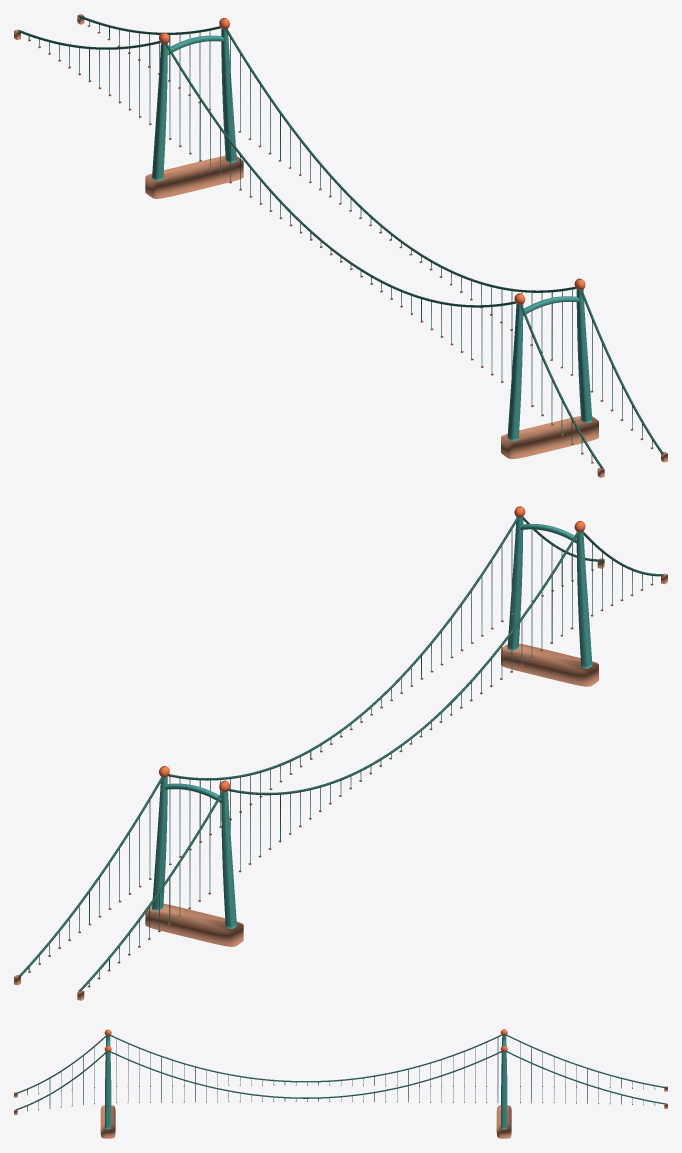
Rendered from sc01_bridge_shell_mb_fixture.glb.
3 views of the same model, one above another, from view 1: azimuth 30°, elevation 25°; view 2: azimuth 150°, elevation 25°; view 3: azimuth 270°, elevation 25° (orthographic). The views are drawn at different scales.
Visible parts, largest first — view 1: SC01_MB_hangers_L, SC01_MB_plinth_W, SC01_MB_plinth_E, SC01_MB_cable_L, SC01_MB_cable_R, SC01_MB_hangers_R, SC01_MB_pylon_W_L, SC01_MB_pylon_E_L, SC01_MB_pylon_E_R, SC01_MB_pylon_W_R; view 2: SC01_MB_plinth_W, SC01_MB_plinth_E, SC01_MB_hangers_R, SC01_MB_hangers_L, SC01_MB_cable_L, SC01_MB_cable_R, SC01_MB_pylon_W_L, SC01_MB_pylon_E_L, SC01_MB_pylon_W_R, SC01_MB_pylon_E_R; view 3: SC01_MB_cable_L, SC01_MB_cable_R, SC01_MB_hangers_R, SC01_MB_hangers_L, SC01_MB_pylon_W_R, SC01_MB_pylon_E_R, SC01_MB_plinth_E, SC01_MB_plinth_W.
Part boxes in pixels (bbox=[...]): SC01_MB_hangers_L: bbox=[28, 36, 592, 461]; SC01_MB_plinth_W: bbox=[145, 155, 243, 198]; SC01_MB_plinth_E: bbox=[501, 416, 598, 458]; SC01_MB_cable_L: bbox=[18, 30, 603, 468]; SC01_MB_cable_R: bbox=[78, 15, 663, 454]; SC01_MB_hangers_R: bbox=[89, 21, 652, 447]; SC01_MB_pylon_W_L: bbox=[152, 43, 167, 180]; SC01_MB_pylon_E_L: bbox=[507, 303, 523, 440]; SC01_MB_pylon_E_R: bbox=[576, 289, 592, 422]; SC01_MB_pylon_W_R: bbox=[221, 28, 236, 162]; SC01_MB_plinth_W: bbox=[145, 903, 243, 946]; SC01_MB_plinth_E: bbox=[501, 643, 598, 686]; SC01_MB_hangers_R: bbox=[28, 529, 591, 971]; SC01_MB_hangers_L: bbox=[89, 543, 652, 985]; SC01_MB_cable_L: bbox=[78, 531, 663, 991]; SC01_MB_cable_R: bbox=[18, 517, 603, 977]; SC01_MB_pylon_W_L: bbox=[221, 791, 236, 928]; SC01_MB_pylon_E_L: bbox=[576, 531, 592, 668]; SC01_MB_pylon_W_R: bbox=[152, 776, 167, 910]; SC01_MB_pylon_E_R: bbox=[507, 516, 523, 650]; SC01_MB_cable_L: bbox=[15, 1034, 666, 1093]; SC01_MB_cable_R: bbox=[15, 1051, 666, 1109]; SC01_MB_hangers_R: bbox=[27, 1054, 654, 1110]; SC01_MB_hangers_L: bbox=[27, 1038, 654, 1094]; SC01_MB_pylon_W_R: bbox=[501, 1051, 507, 1128]; SC01_MB_pylon_E_R: bbox=[105, 1052, 111, 1128]; SC01_MB_plinth_E: bbox=[100, 1105, 115, 1138]; SC01_MB_plinth_W: bbox=[496, 1105, 511, 1138].
Size of the model in its own units: 47.05 by 78.3 by 525.
